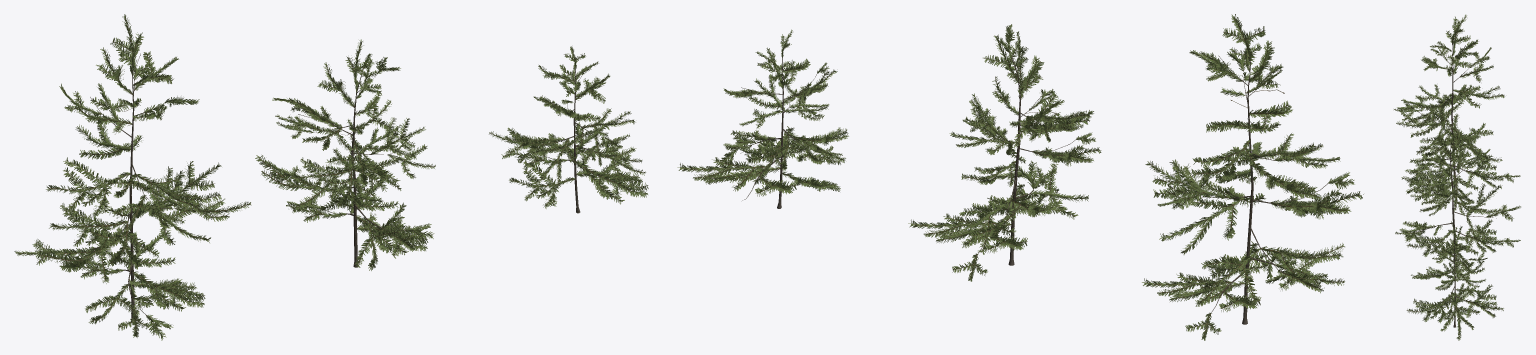
File: fir-canopy.glb
3 views of the same model, side by side, from view 1: azimuth 30°, elevation 25°; view 2: azimuth 150°, elevation 25°; view 3: azimuth 270°, elevation 25° (orthographic). The views are drawn at different scales.
Parts seen in each view (by area): view 1: fir_sapling_a, fir_sapling_b, fir_sapling_c; view 2: fir_sapling_a, fir_sapling_b, fir_sapling_c; view 3: fir_sapling_a, fir_sapling_b, fir_sapling_c.
Part boxes in pixels (x1,y1,x2,y2): fir_sapling_a: [14, 14, 251, 340]; fir_sapling_b: [255, 39, 435, 270]; fir_sapling_c: [489, 46, 648, 213]; fir_sapling_a: [1142, 14, 1363, 340]; fir_sapling_b: [908, 24, 1101, 281]; fir_sapling_c: [677, 29, 848, 208]; fir_sapling_a: [1394, 14, 1520, 211]; fir_sapling_b: [1395, 129, 1520, 276]; fir_sapling_c: [1406, 221, 1503, 340].
Bounding box in the file's own units: 2.74 × 1.3 × 0.8264.
Materials: 2 (2 with a texture image).
